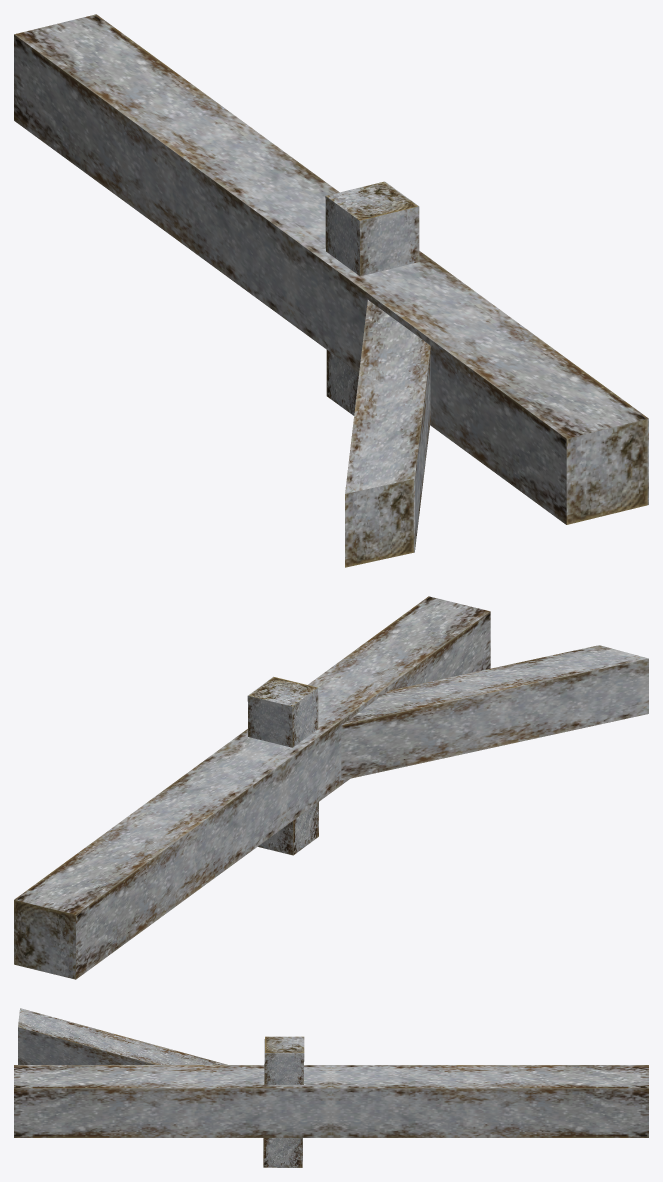
File: zhanchang_fuben_194_guidao_02b.obj
3 views of the same model, one above another, from view 1: azimuth 30°, elevation 25°; view 2: azimuth 150°, elevation 25°; view 3: azimuth 270°, elevation 25° (orthographic). The views are drawn at different scales.
Visible parts, largest first — view 1: zhanchang_fuben_194_guidao_02b; view 2: zhanchang_fuben_194_guidao_02b; view 3: zhanchang_fuben_194_guidao_02b.
Part boxes in pixels (x1,y1,x2,y2): zhanchang_fuben_194_guidao_02b: (14,14,648,567); zhanchang_fuben_194_guidao_02b: (14,596,648,979); zhanchang_fuben_194_guidao_02b: (14,1008,648,1167).
Size of the model in its own units: 26.13 by 16.69 by 83.71.
1 material, 1 textured.
